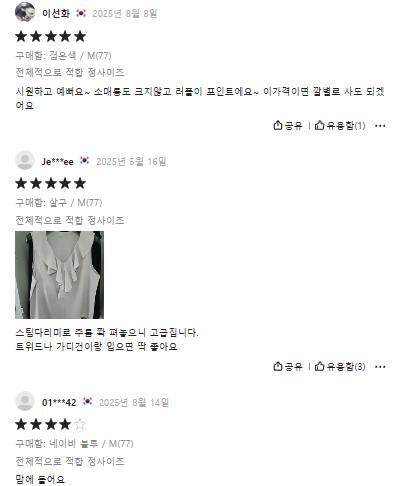button: (313, 116, 368, 137), (312, 356, 367, 377), (267, 116, 306, 137), (270, 356, 305, 375), (372, 116, 392, 137), (372, 358, 390, 376)
